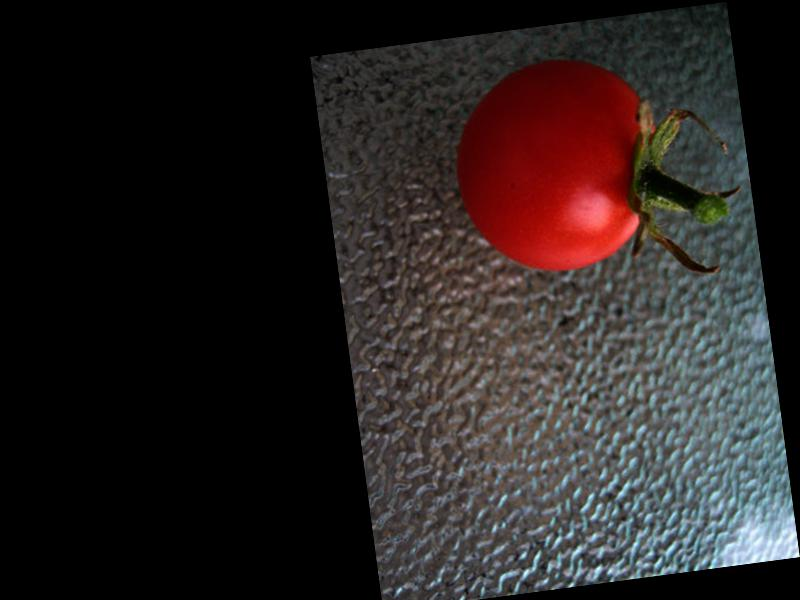Tomato: (443, 51, 662, 285)
